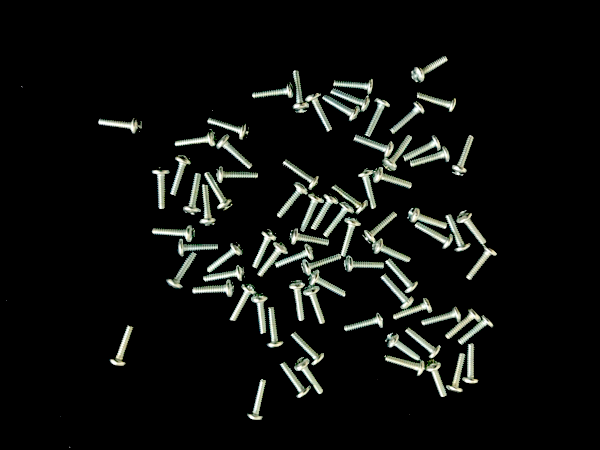shortscrew: (216, 134, 254, 169), (290, 331, 326, 367), (279, 362, 312, 401), (206, 241, 245, 274), (331, 185, 370, 217), (386, 258, 420, 294), (362, 210, 398, 244), (382, 274, 415, 311), (277, 181, 309, 219), (167, 252, 198, 291), (205, 172, 235, 212), (258, 240, 290, 277), (282, 160, 320, 191), (230, 282, 259, 322), (467, 244, 499, 280), (323, 202, 355, 238), (402, 134, 443, 162), (305, 92, 333, 133), (382, 134, 413, 171), (411, 54, 449, 84), (353, 133, 395, 160), (391, 101, 425, 134), (446, 307, 481, 339), (294, 358, 324, 395), (459, 314, 494, 345), (385, 331, 421, 361), (365, 97, 392, 137), (309, 269, 346, 298), (445, 212, 471, 253), (252, 228, 278, 269), (311, 193, 339, 231), (322, 95, 360, 123), (110, 325, 135, 367), (456, 210, 486, 245), (414, 224, 454, 250), (208, 117, 251, 141), (450, 135, 475, 176), (246, 379, 269, 423), (371, 238, 411, 263), (331, 88, 371, 113), (393, 296, 434, 320), (407, 206, 448, 230), (276, 244, 316, 268), (415, 93, 458, 115), (97, 115, 142, 136), (411, 145, 452, 168), (384, 355, 426, 377), (356, 166, 377, 210), (303, 285, 326, 325), (182, 173, 203, 216), (372, 167, 413, 189), (425, 359, 448, 398), (301, 253, 341, 275), (344, 312, 385, 333), (422, 305, 462, 326), (344, 253, 385, 273), (176, 129, 217, 149), (288, 228, 329, 248), (341, 217, 362, 256), (152, 167, 171, 210), (291, 71, 310, 114), (203, 265, 246, 284), (199, 185, 218, 227), (152, 225, 196, 243), (192, 280, 236, 298), (447, 353, 466, 394), (267, 307, 285, 350), (252, 82, 295, 100), (251, 293, 269, 335), (217, 166, 259, 184), (334, 77, 375, 95), (289, 279, 306, 322), (178, 240, 220, 257), (462, 344, 479, 384)
